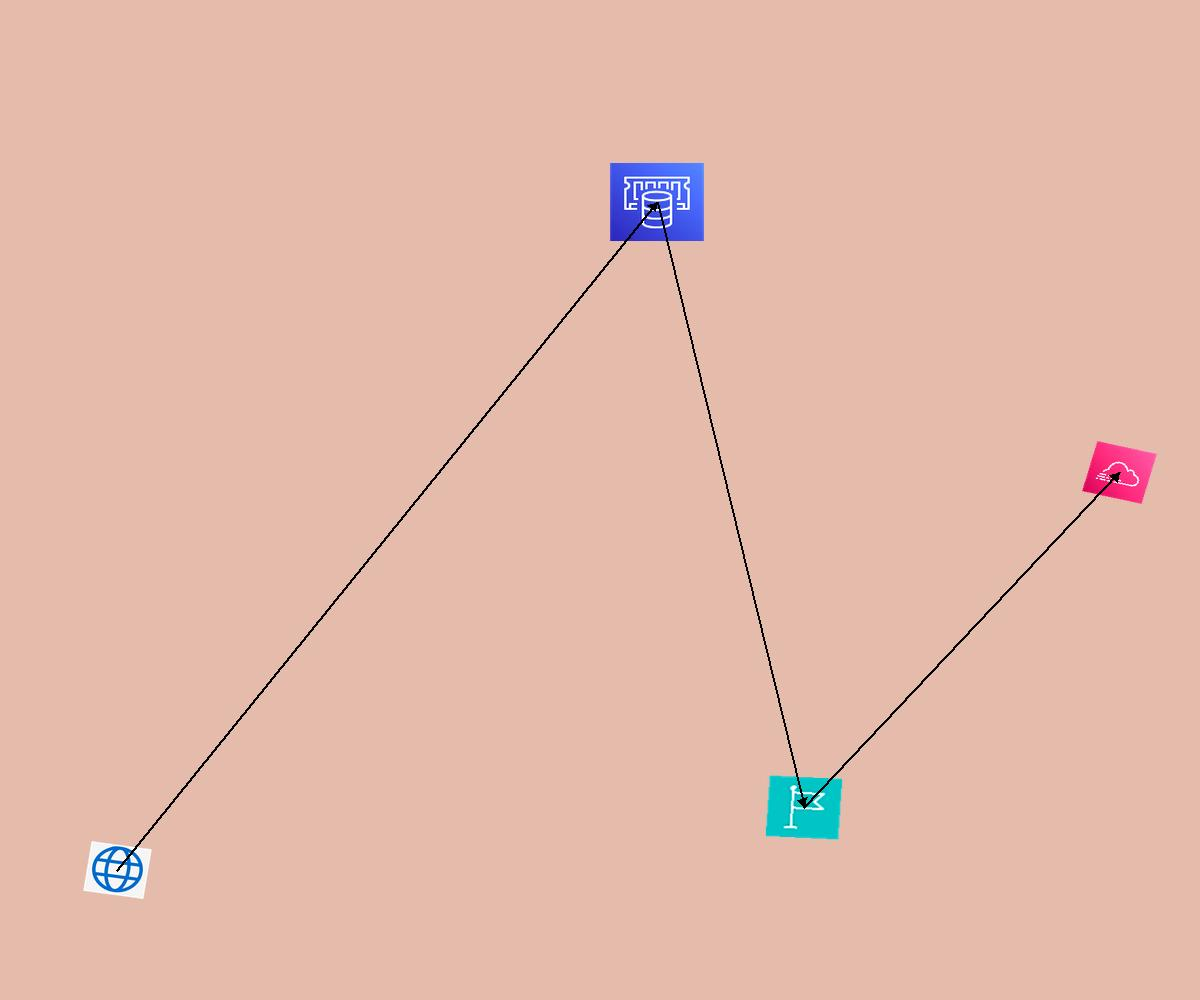AWS-CloudTrail: (1082, 441, 1157, 504)
AWS-ElastiCache: (609, 162, 705, 242)
AWS-Region: (765, 775, 843, 840)
Azure_http: (83, 841, 152, 899)
